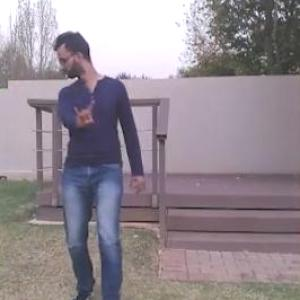takeoff-hand: (70, 94, 101, 130)
